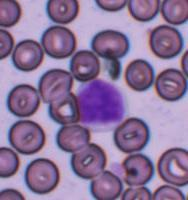L: (76, 77, 127, 132)
